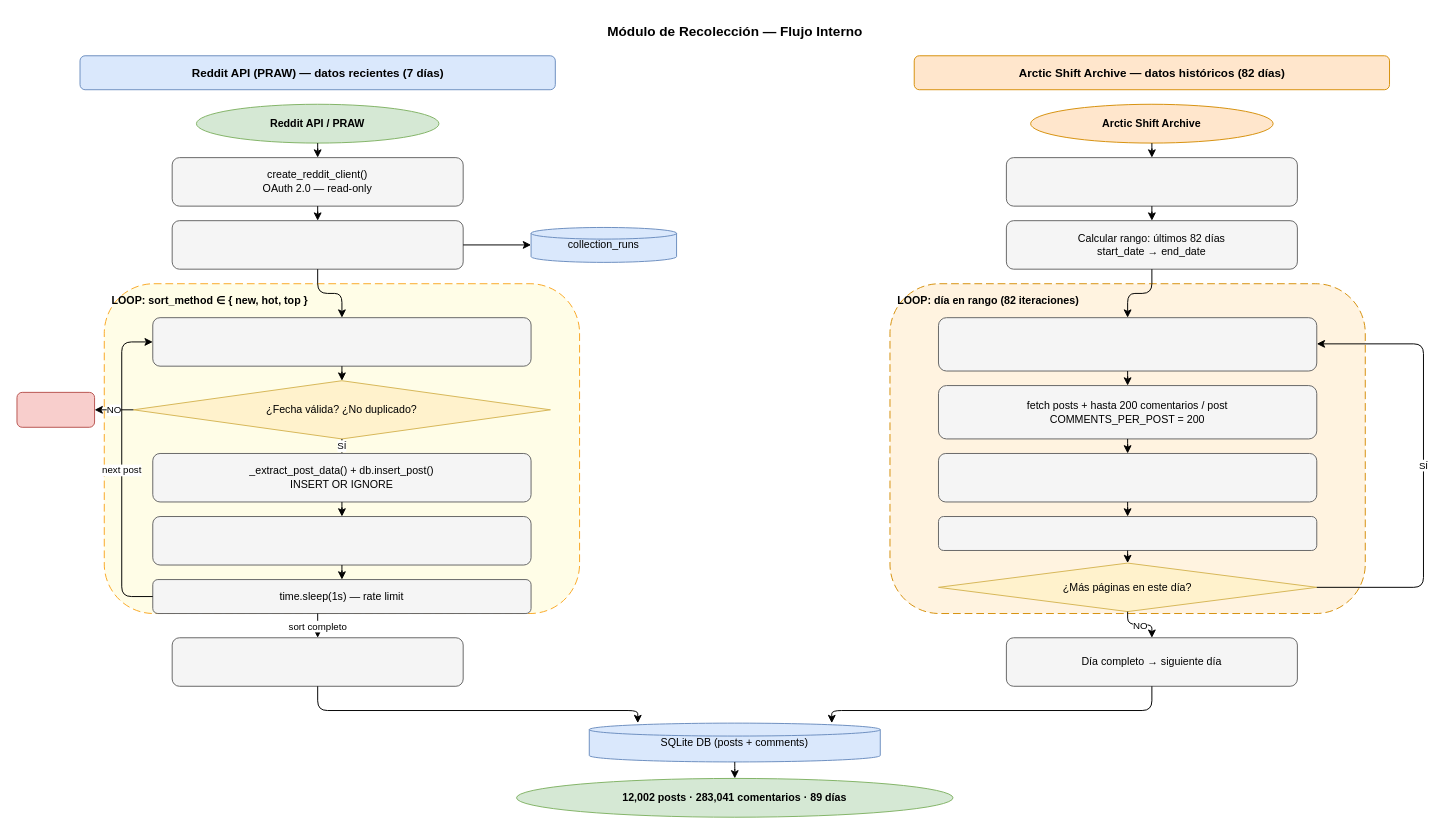
This 1448x834 diagram has some shape labels left out. The centre of each missing label's shape, as x and y in pixels:
_collect_comments() — replace_more(limit=0) + insert_batch(): the point at 341,540
ArcticCollector.__init__() subreddit=r/politics, date_range: the point at 1151,181
Fetch posts — /r/politics/{sort_method}: the point at 341,341
finish_collection_run() status = 'completed': the point at 317,661
INSERT OR IGNORE — posts + comments: the point at 1127,477
request paginado: after / before (Unix timestamp) /r/politics — un día completo: the point at 1127,344
skip / break: the point at 55,409
start_collection_run() registra parámetros en BD: the point at 317,244
time.sleep(0.5s) — rate limit: the point at 1127,533
